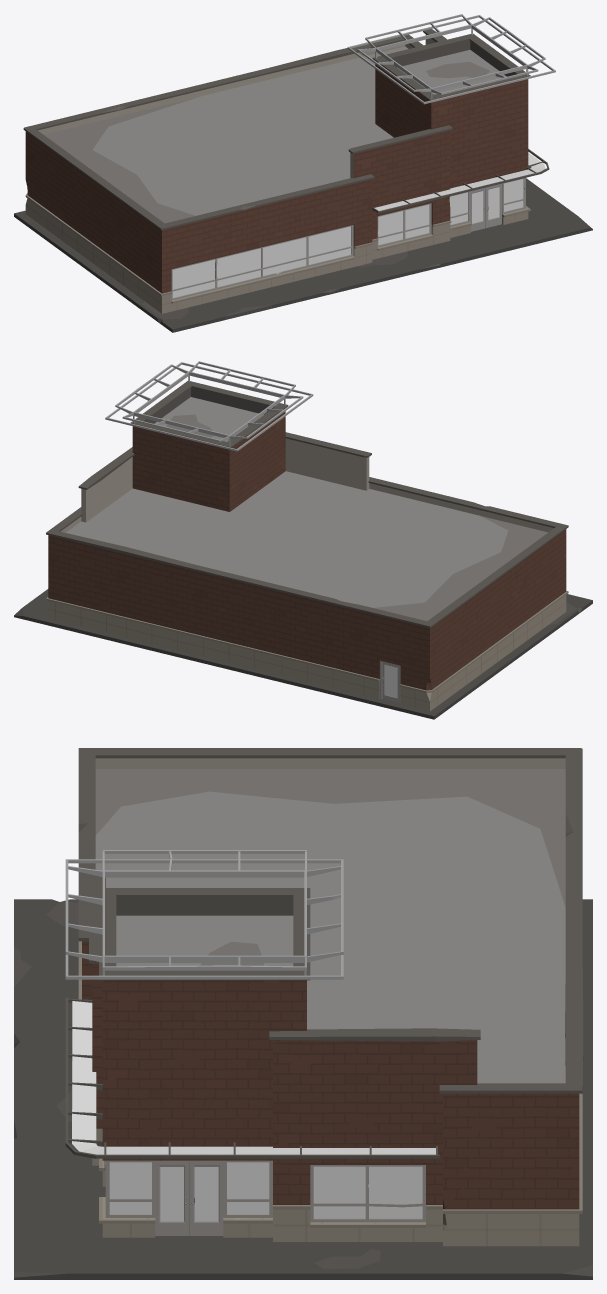
The model's file is SM_Bldg_City_Shop_Big_06.fbx.
3 renders of one model, top to bottom at view 1: azimuth 30°, elevation 25°; view 2: azimuth 150°, elevation 25°; view 3: azimuth 270°, elevation 25°, orthographic. The views are drawn at different scales.
Parts seen in each view (by area): view 1: SM_Bldg_City_Shop_Big_06; view 2: SM_Bldg_City_Shop_Big_06; view 3: SM_Bldg_City_Shop_Big_06.
Boxes of the visible parts, x1,y1,x2,y2 form: SM_Bldg_City_Shop_Big_06: [14, 14, 592, 332]; SM_Bldg_City_Shop_Big_06: [14, 361, 592, 719]; SM_Bldg_City_Shop_Big_06: [14, 748, 592, 1279].
Bounding box in the file's own units: 2600 × 949 × 1700.
